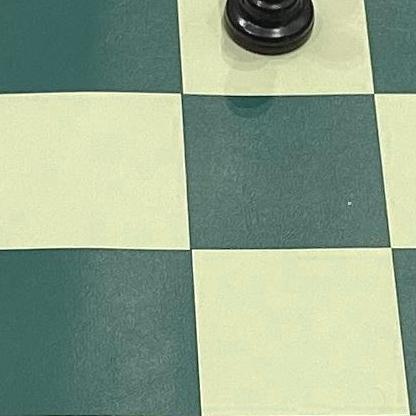black-pawn: (220, 0, 318, 57)
